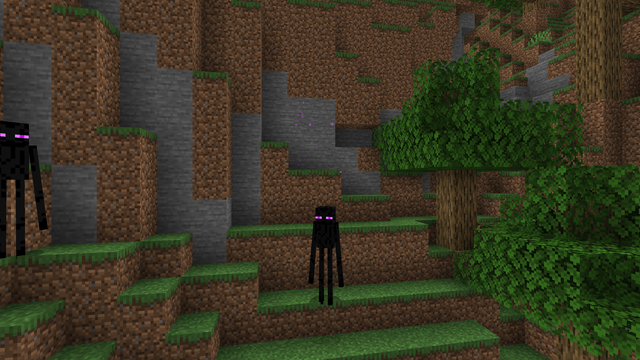endermens: (1, 116, 39, 260), (314, 203, 337, 307)
